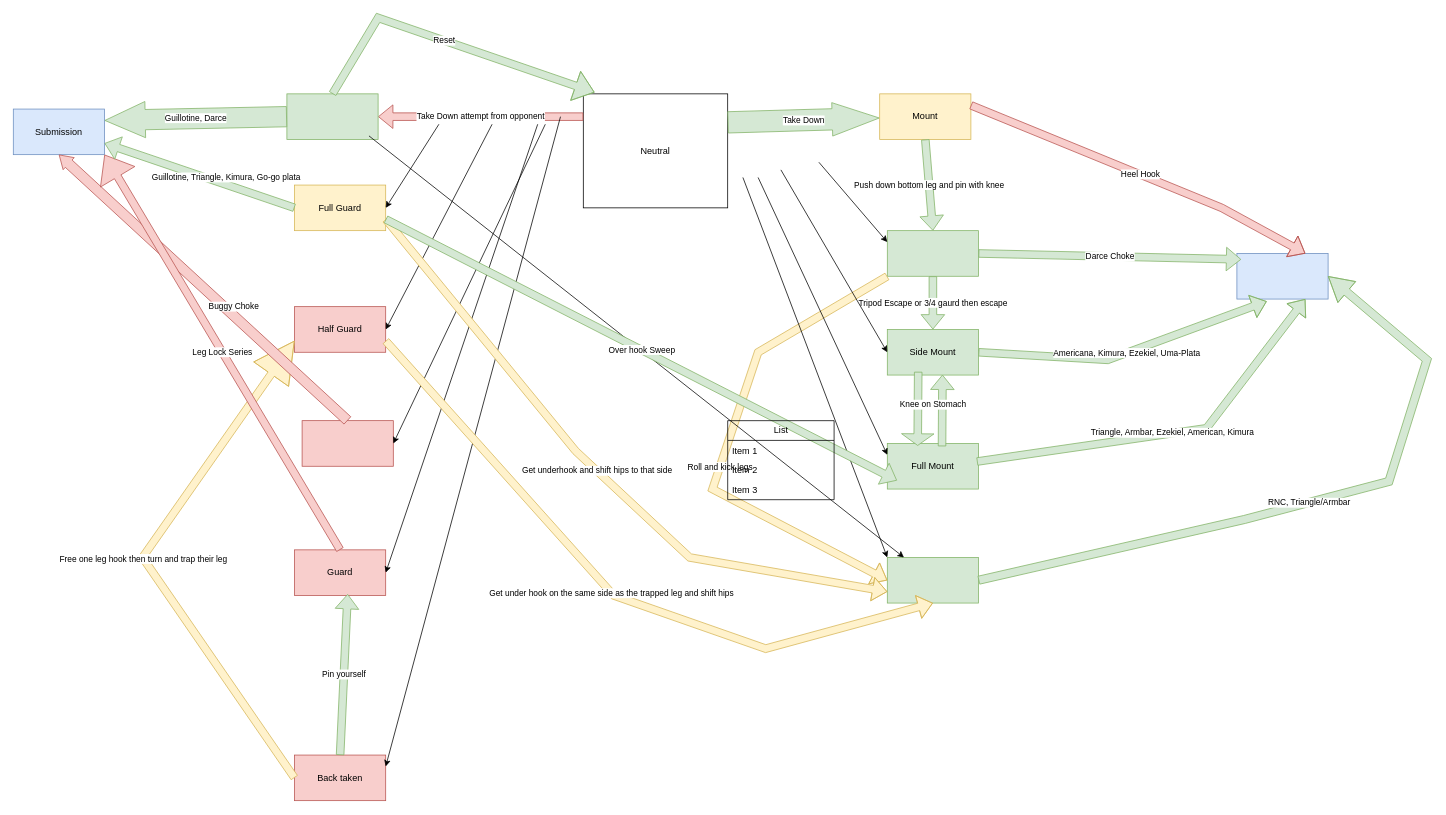
Some shapes in this 1446 by 815 pixel diagram are drawn without their labels. Here are the shapes that lost their labels. From the top down, the centre of each, then its label:
(x=332, y=116): Sprawl/Front Headlock Position
(x=932, y=253): Half Mount
(x=1282, y=276): Submisson
(x=347, y=443): Side Guard
(x=932, y=580): Back
